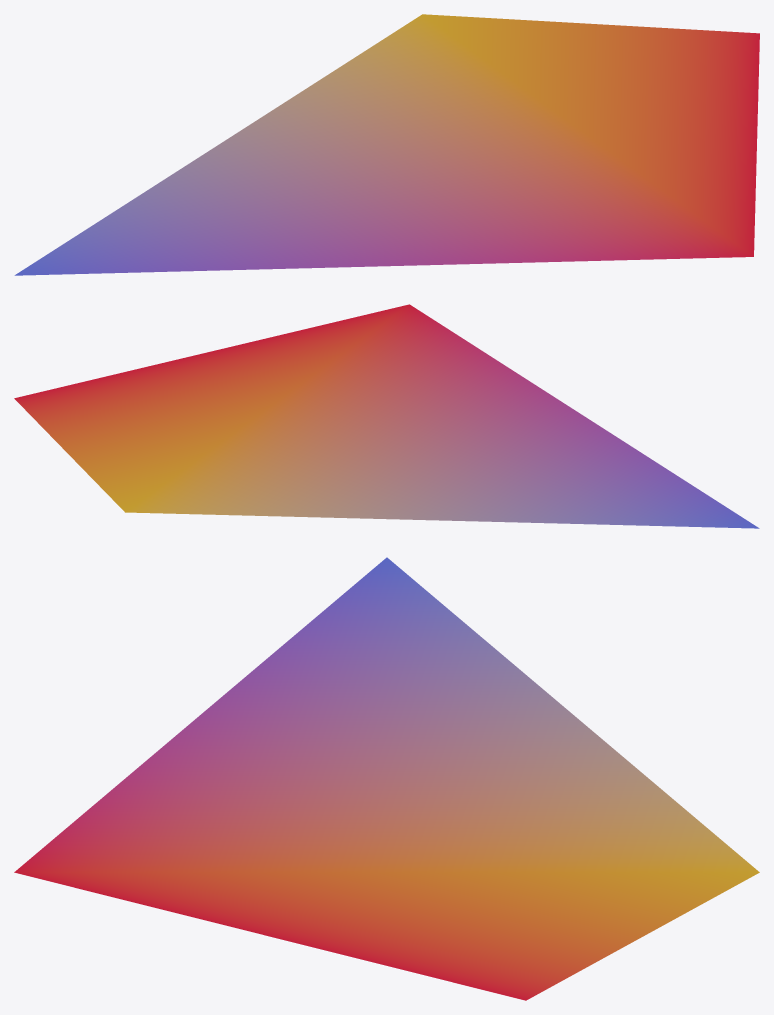
3 views of the same model, one above another, from view 1: azimuth 30°, elevation 25°; view 2: azimuth 150°, elevation 25°; view 3: azimuth 270°, elevation 25° (orthographic). The views are drawn at different scales.
Visible parts, largest first — view 1: Rectangle; view 2: Rectangle; view 3: Rectangle.
Part boxes in pixels (<box>): Rectangle: <box>14,14,759,275</box>; Rectangle: <box>14,304,759,528</box>; Rectangle: <box>14,557,759,1000</box>.
Size of the model in its own units: 84.41 by 60 by 0.
